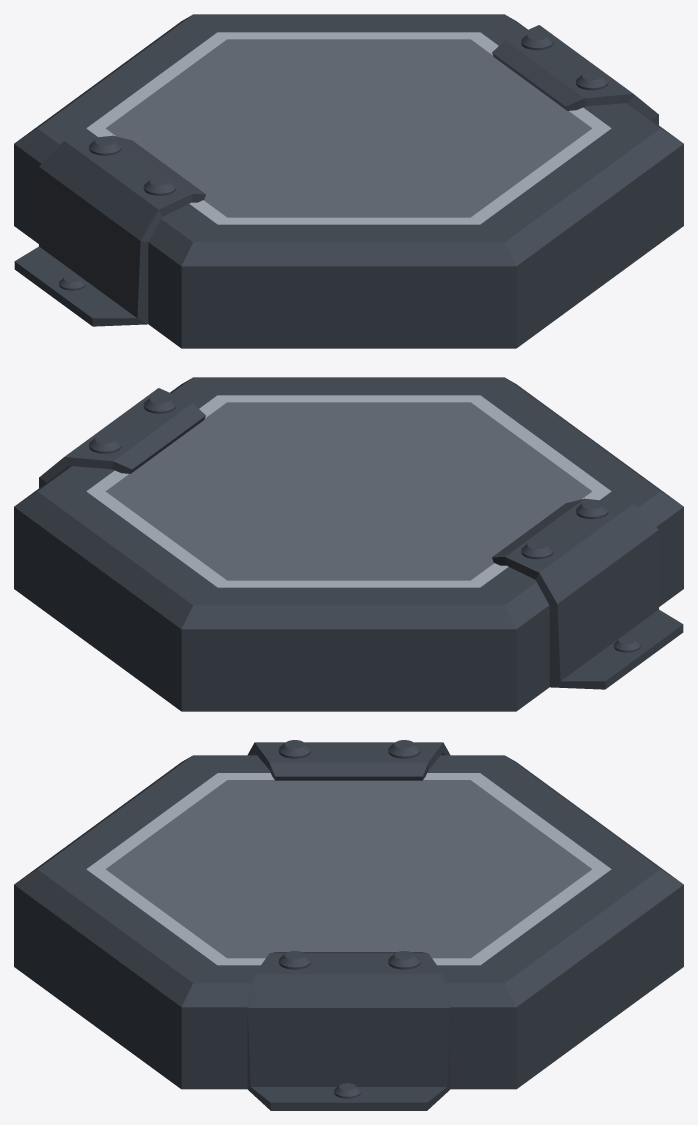
The model's file is Hex_tiles.fbx.
3 renders of one model, top to bottom at view 1: azimuth 30°, elevation 25°; view 2: azimuth 150°, elevation 25°; view 3: azimuth 270°, elevation 25°, orthographic.
Visible parts, largest first — view 1: Cylinder; view 2: Cylinder; view 3: Cylinder.
Part boxes in pixels (box(x1,y1,x2,y2)): Cylinder: box(14, 14, 683, 348); Cylinder: box(14, 377, 683, 711); Cylinder: box(14, 740, 683, 1110).
Size of the model in its own units: 204 by 38.58 by 200.
1 material, 1 textured.
